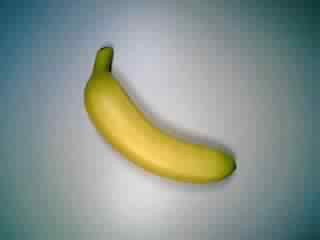banana: (77, 40, 241, 186)
